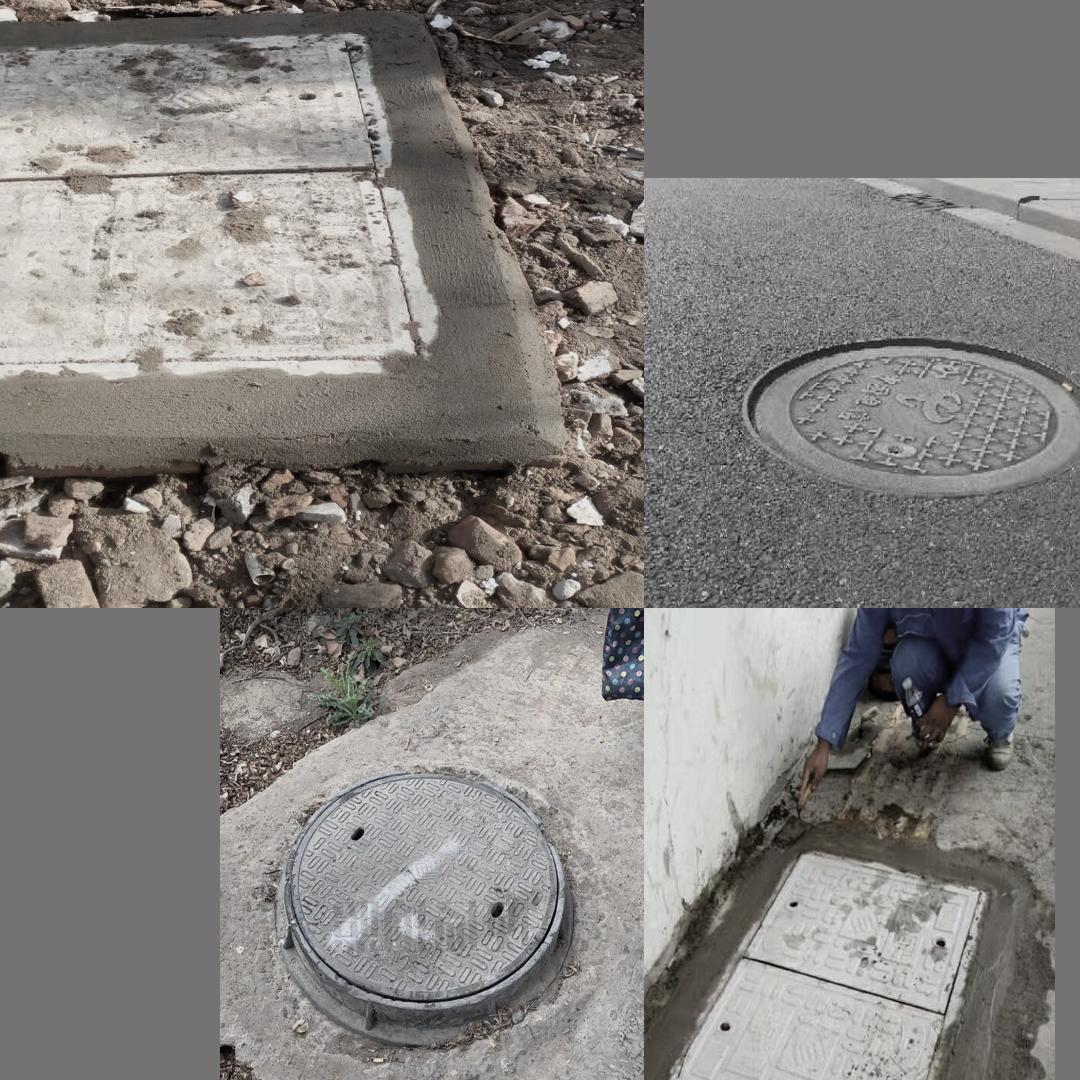good: (0, 31, 445, 377), (651, 847, 984, 1080), (284, 773, 565, 1010), (736, 325, 1080, 516)
